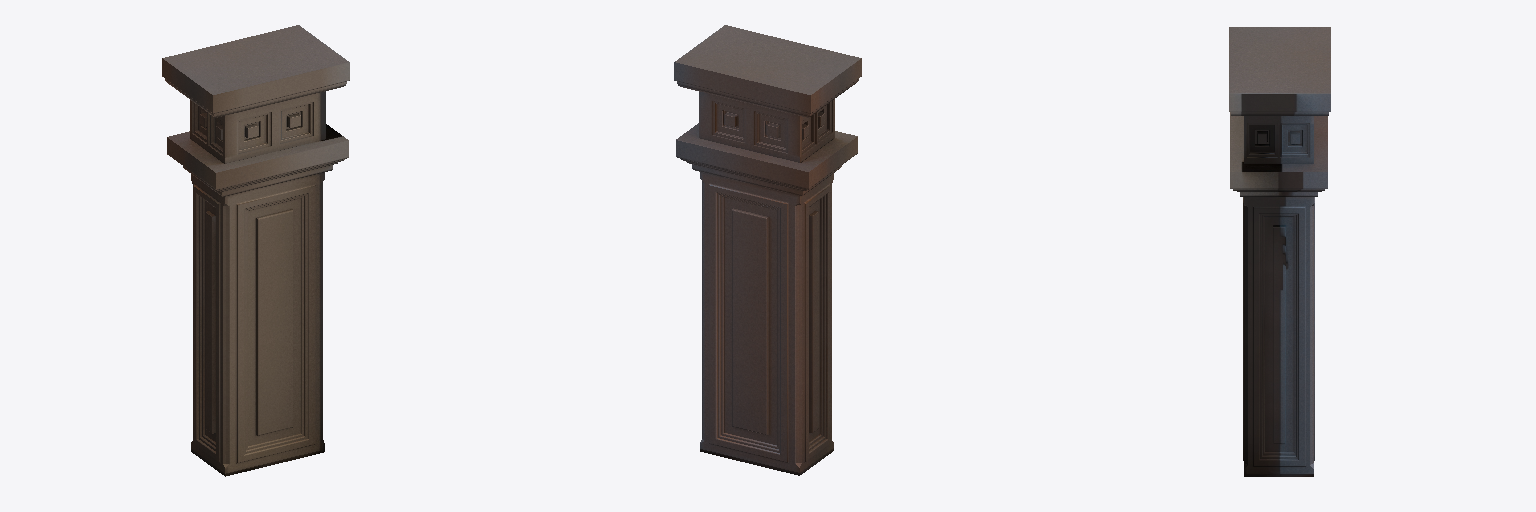
3 renders of one model, left to right at view 1: azimuth 30°, elevation 25°; view 2: azimuth 150°, elevation 25°; view 3: azimuth 270°, elevation 25°, orthographic.
Visible parts, largest first — view 1: Wall_BigPillar_HR; view 2: Wall_BigPillar_HR; view 3: Wall_BigPillar_HR.
Boxes of the visible parts, box(x1,y1,x2,y2) form: Wall_BigPillar_HR: box(162, 25, 349, 476); Wall_BigPillar_HR: box(674, 25, 861, 475); Wall_BigPillar_HR: box(1229, 27, 1330, 476).
Bounding box in the file's own units: 2.27 × 6.23 × 1.47.
Materials: 1 (1 with a texture image).